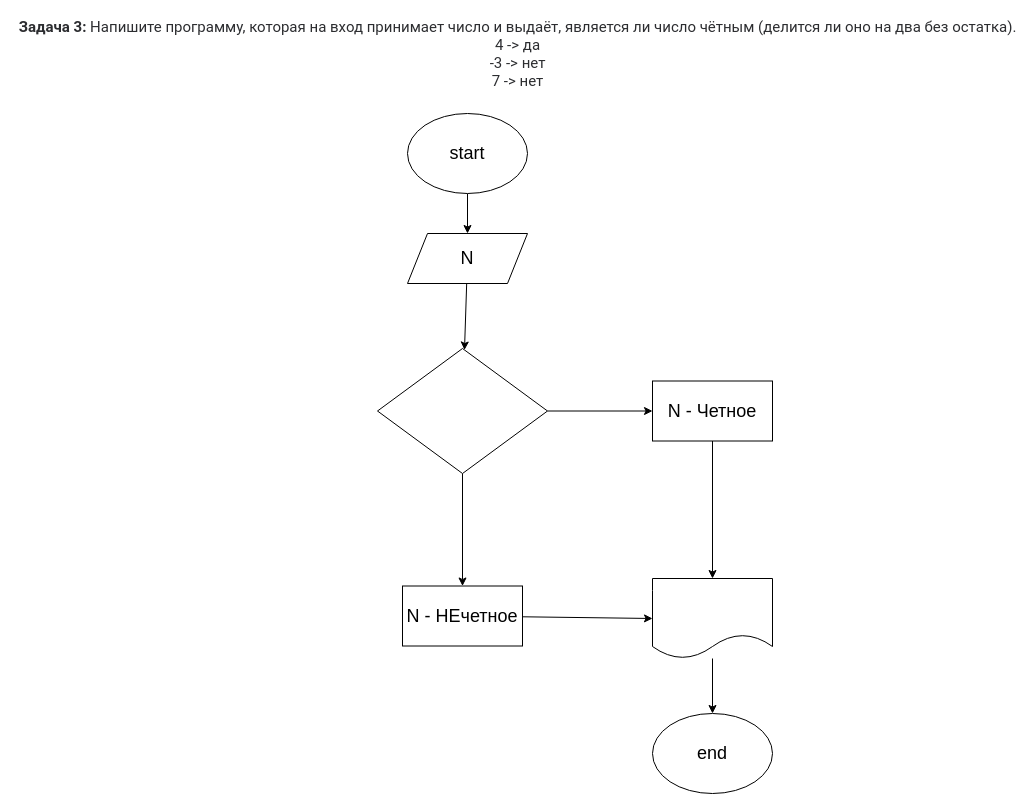
This 1034x811 diagram has some shape labels left out. The shapes that lost their labels are listed below. From the top down, each one's box as (x1, y1, x2, y2) in pixels, then its label:
(376, 348, 548, 474): N % 2 = 0
(652, 578, 772, 658): print
